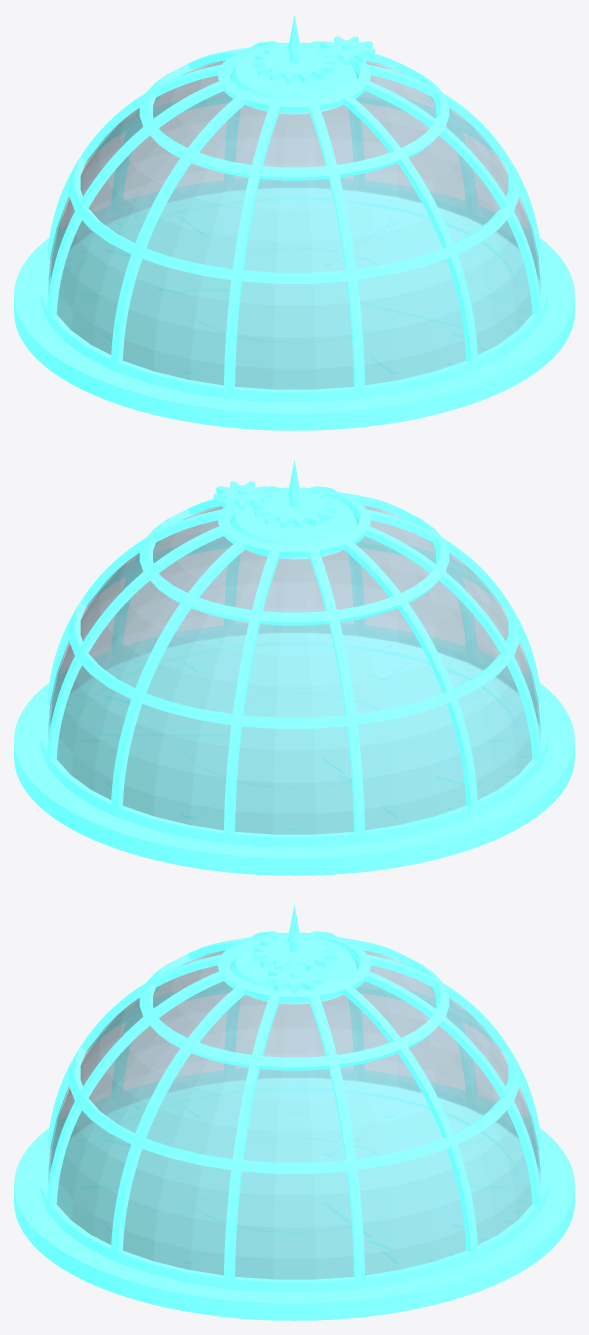
The model's file is GlassDome.fbx.
3 views of the same model, one above another, from view 1: azimuth 30°, elevation 25°; view 2: azimuth 150°, elevation 25°; view 3: azimuth 270°, elevation 25° (orthographic).
Visible parts, largest first — view 1: Dome_Glass, Floor_Base, Dome_Frame, Floor_Dial, Top_Cap, Gear_Big, Gear_Small, Hand_Minute, Hand_Hour; view 2: Dome_Glass, Floor_Base, Dome_Frame, Floor_Dial, Top_Cap, Gear_Big, Gear_Small, Hand_Minute; view 3: Dome_Glass, Floor_Base, Dome_Frame, Floor_Dial, Top_Cap, Gear_Big, Gear_Small, Hand_Minute.
Boxes of the visible parts, x1,y1,x2,y2 form: Dome_Glass: [48, 60, 540, 389]; Floor_Base: [14, 178, 574, 430]; Dome_Frame: [40, 41, 548, 402]; Floor_Dial: [48, 187, 540, 389]; Top_Cap: [231, 14, 357, 99]; Gear_Big: [252, 43, 336, 83]; Gear_Small: [318, 36, 375, 65]; Hand_Minute: [323, 216, 391, 266]; Hand_Hour: [156, 282, 229, 294]; Dome_Glass: [48, 505, 540, 834]; Floor_Base: [14, 623, 574, 875]; Dome_Frame: [40, 486, 548, 847]; Floor_Dial: [48, 632, 540, 834]; Top_Cap: [231, 459, 357, 544]; Gear_Big: [252, 488, 336, 528]; Gear_Small: [213, 481, 270, 510]; Hand_Minute: [99, 729, 229, 737]; Dome_Glass: [48, 950, 540, 1279]; Floor_Base: [14, 1068, 574, 1320]; Dome_Frame: [40, 931, 548, 1292]; Floor_Dial: [48, 1077, 540, 1279]; Top_Cap: [231, 904, 357, 989]; Gear_Big: [253, 934, 335, 970]; Gear_Small: [266, 964, 322, 993]; Hand_Minute: [323, 1200, 391, 1250].
Size of the model in its own units: 590 by 346 by 590.
